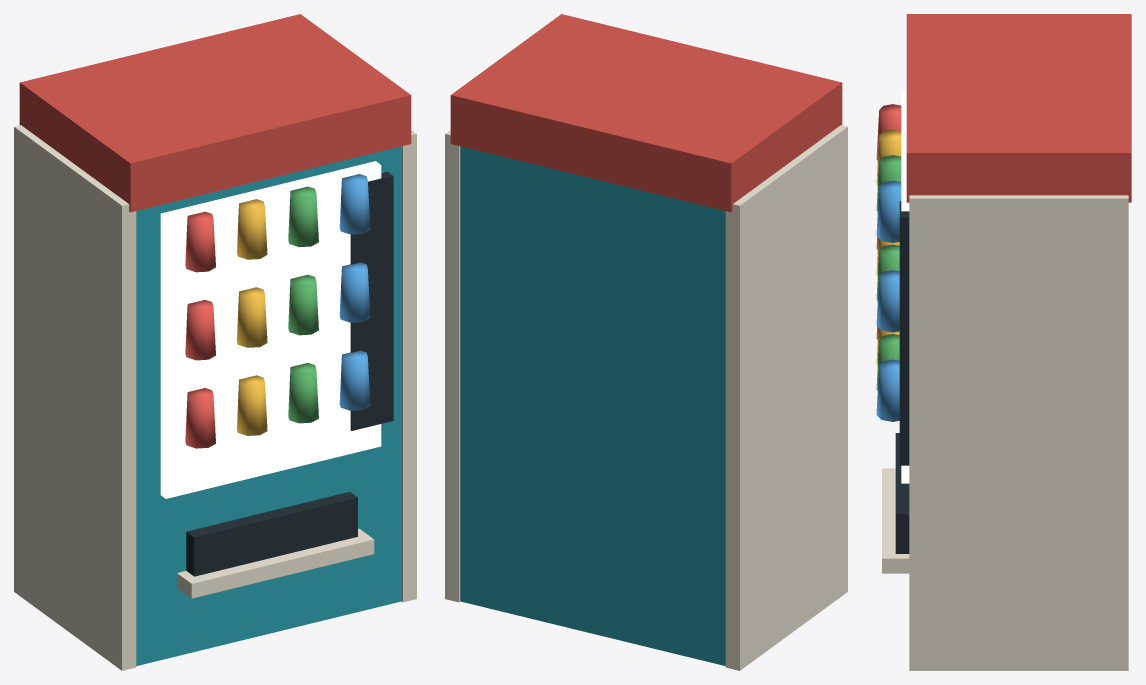
Rendered from xy_landmark_vending.glb.
3 views of the same model, side by side, from view 1: azimuth 30°, elevation 25°; view 2: azimuth 150°, elevation 25°; view 3: azimuth 270°, elevation 25° (orthographic).
Visible parts, largest first — view 1: xy_landmark_vending; view 2: xy_landmark_vending; view 3: xy_landmark_vending.
Part boxes in pixels (bbox=[...]): xy_landmark_vending: bbox=[14, 14, 416, 670]; xy_landmark_vending: bbox=[445, 14, 847, 670]; xy_landmark_vending: bbox=[876, 14, 1131, 670].
Bounding box in the file's own units: 1.26 × 2.1 × 0.93.
